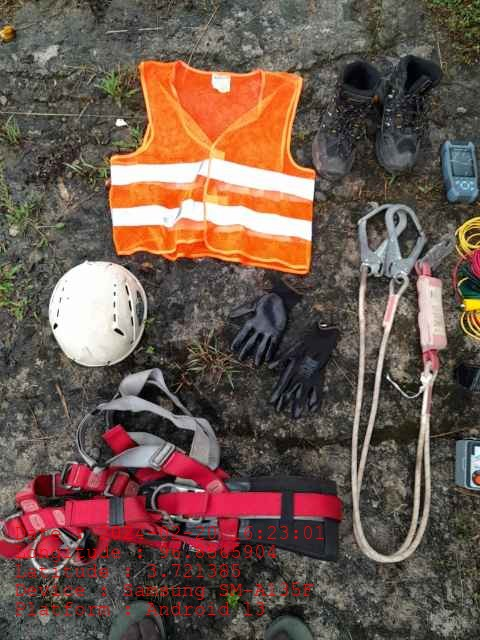HELM: (49, 261, 149, 367)
ROMPI: (119, 58, 310, 273)
SARUNG_TANGAN: (275, 333, 337, 421), (231, 281, 289, 363)
SEPATU: (313, 54, 440, 180)
TAMBANG_SLING: (348, 203, 446, 562)
